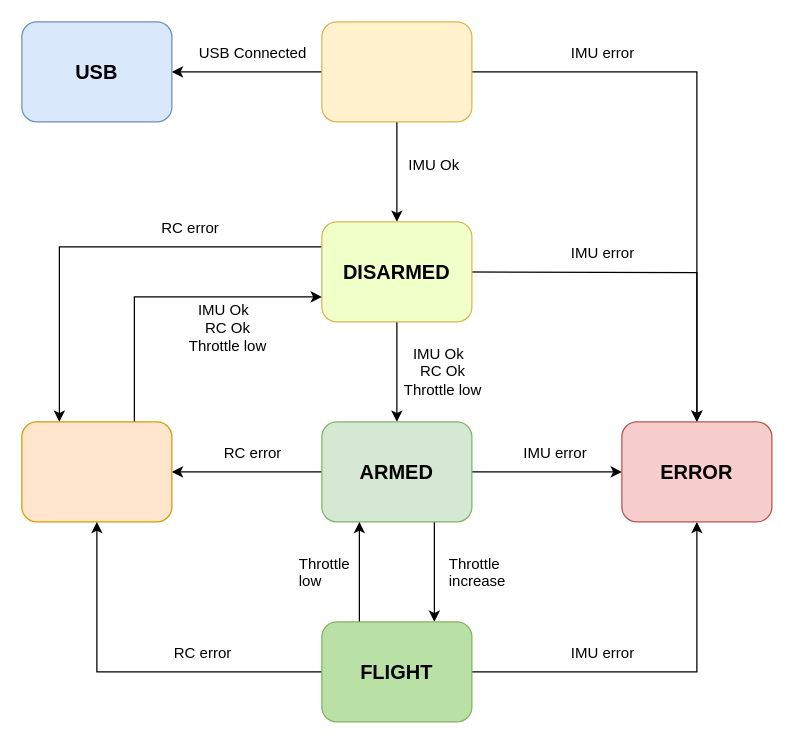
Some shapes in this 794 by 744 pixel diagram are drawn without their labels. Each missing label, with the centre of its shape:
"FAILSAFE" belongs at point 96,471.
"INIT" belongs at point 396,71.
